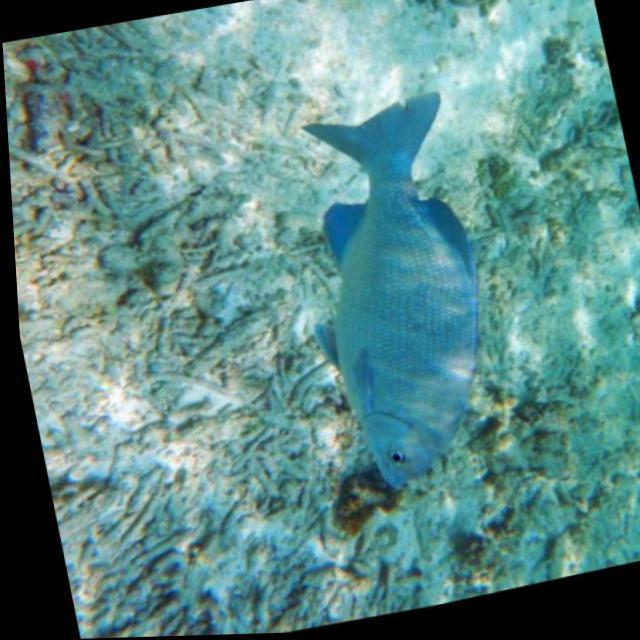Dead Coral: (2, 22, 352, 613), (419, 53, 640, 532)
